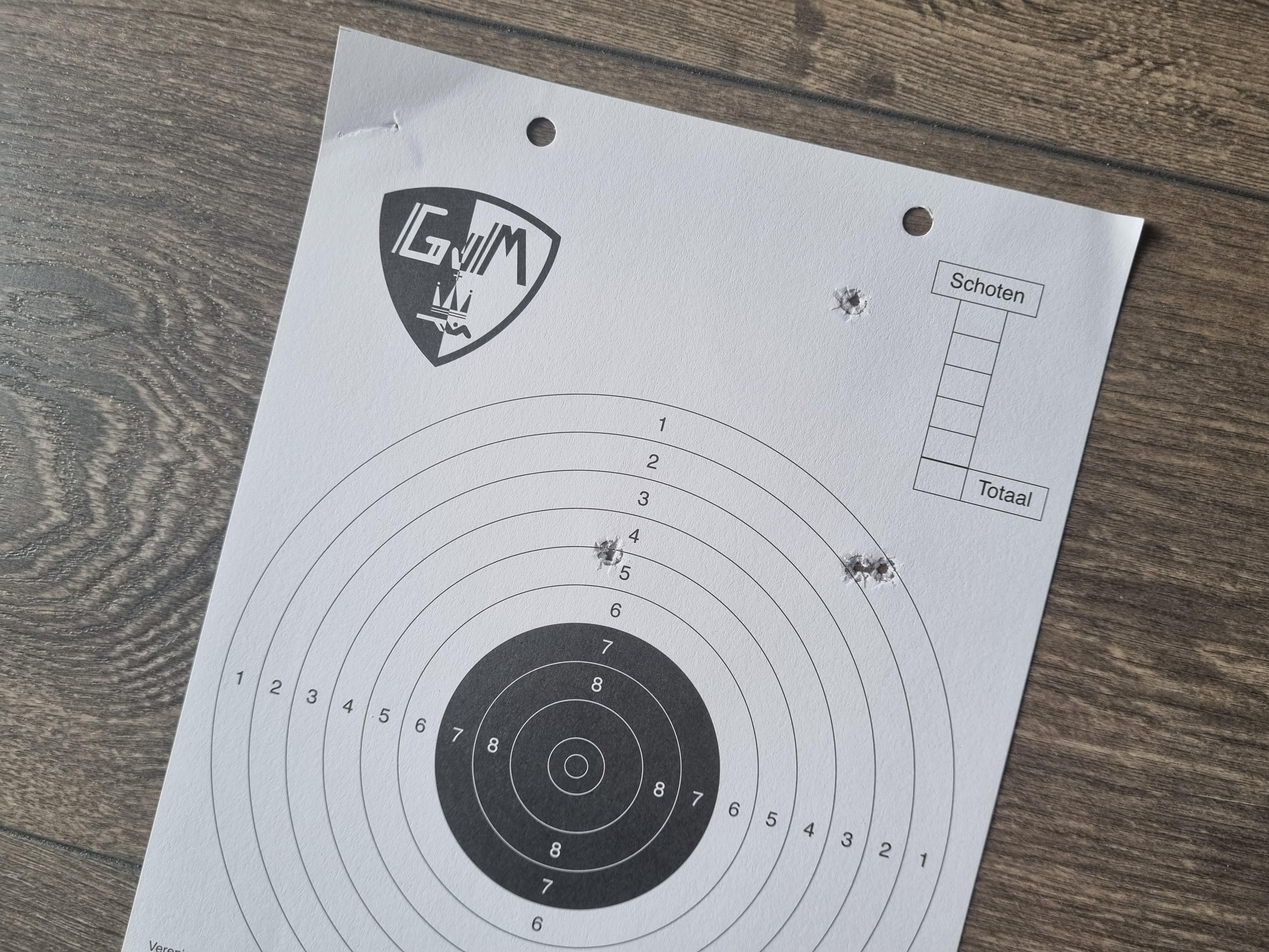hole: (842, 621, 891, 652), (509, 444, 554, 468), (485, 631, 532, 652), (491, 655, 530, 674)
